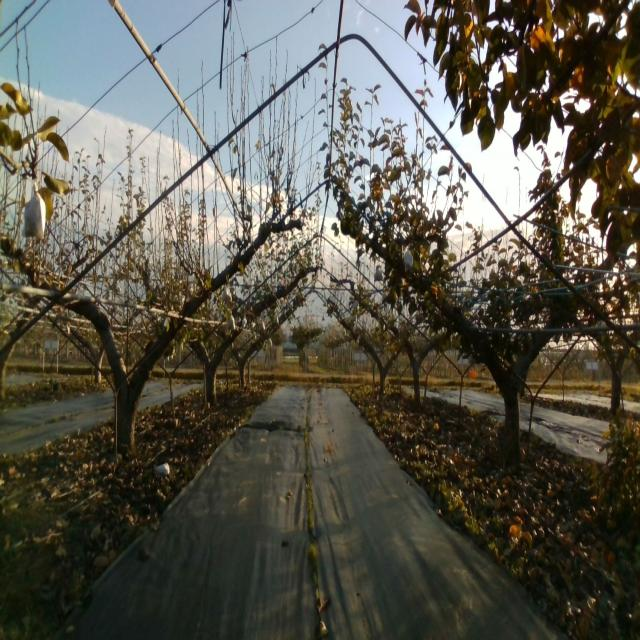pearbags: (21, 187, 47, 240)
